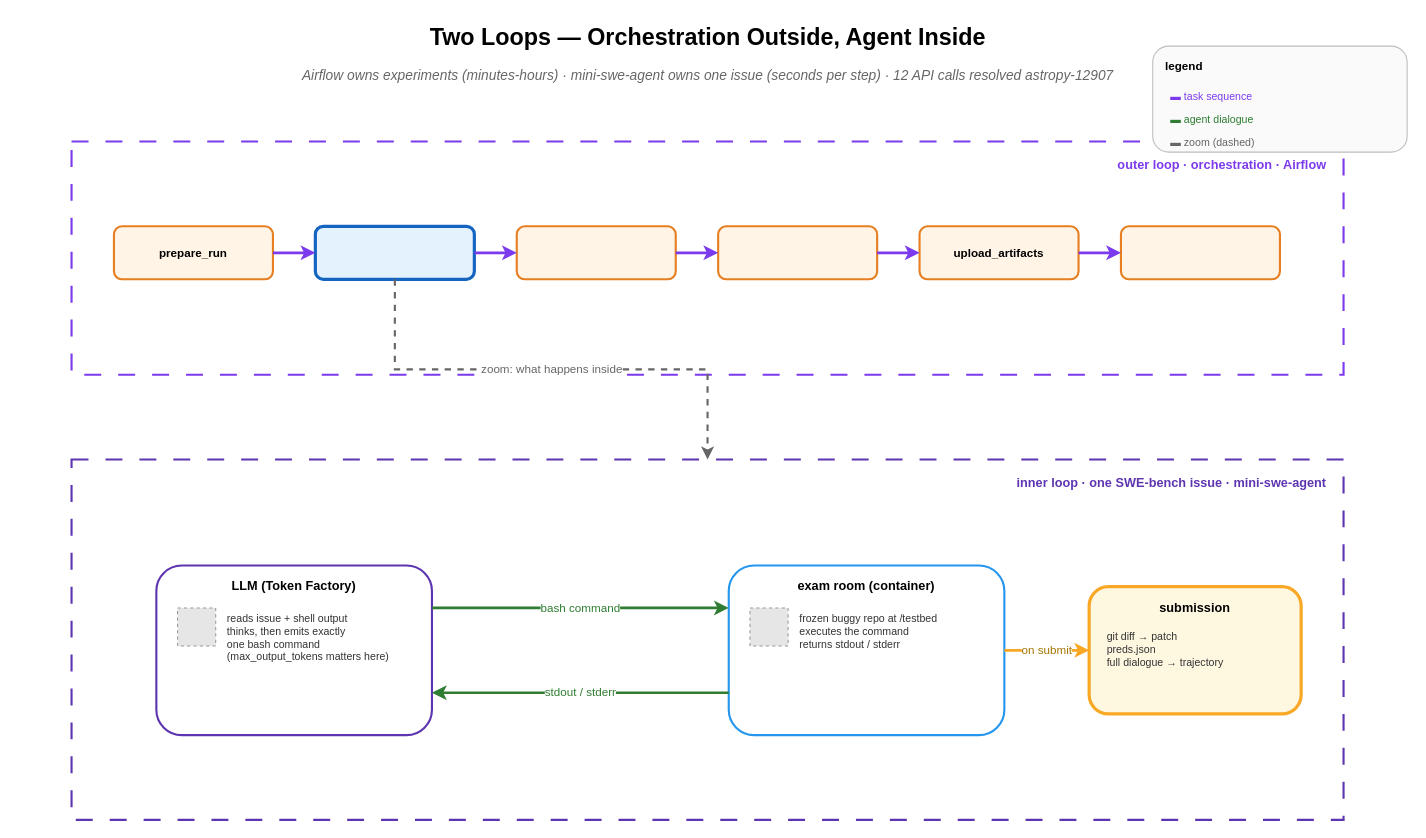
Some shapes in this 1426 by 838 pixel diagram are drawn without their labels. Grey dashed boxes stand in for pictures. Each missing label, with the centre of its shape:
log_mlflow: [1199,252]
run_agent: [394,252]
run_eval: [595,252]
summarize: [797,252]
